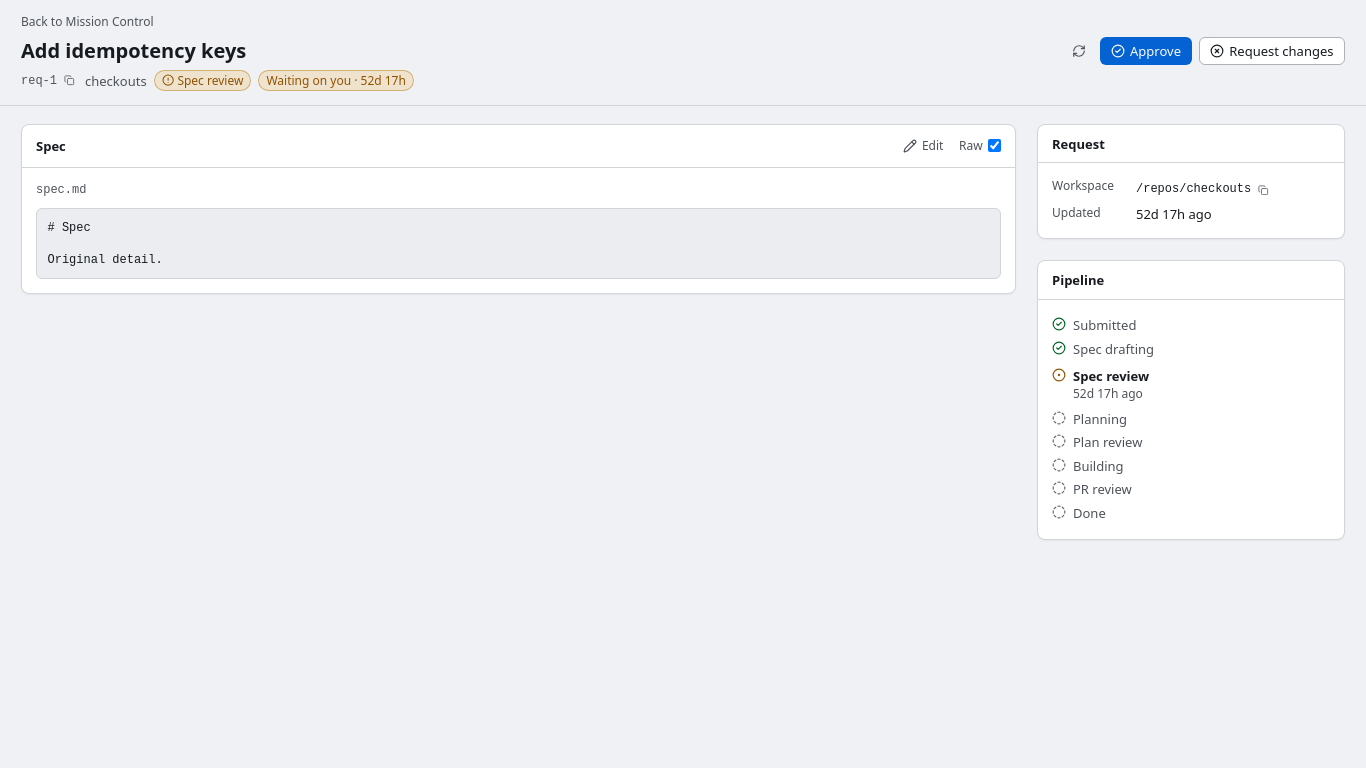
Test: a 422 from saving an edited spec renders the message inline and keeps the edit
Expected: the heading "Add idempotency keys" is shown, x1=21 y1=37 x2=246 y2=64
Expected: the button "Approve" is enabled, x1=1100 y1=37 x2=1192 y2=65
Click the button "Edit": coordinates (923, 146) x1=894 y1=134 x2=952 y2=158
(page scrolled)
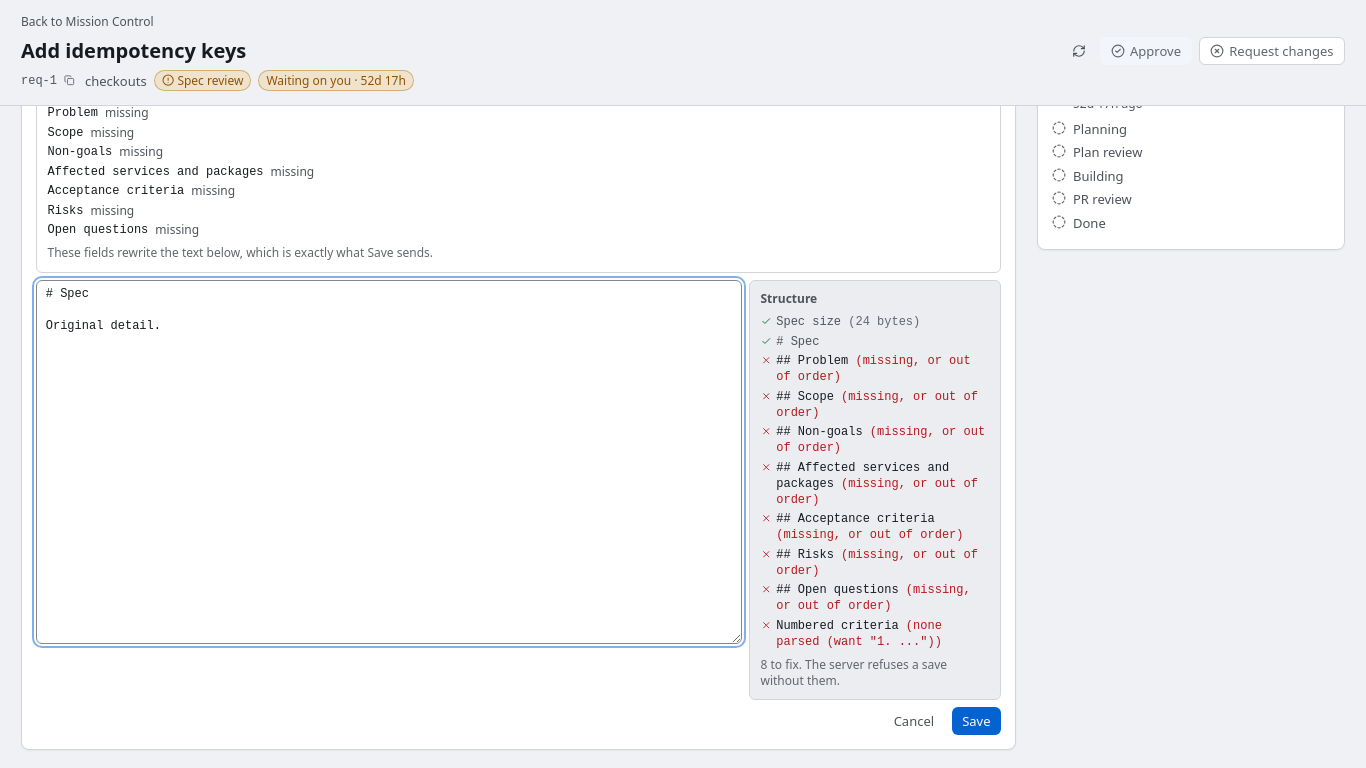
Clear the text box named "Edit spec.md": coordinates (389, 462) x1=36 y1=280 x2=742 y2=644
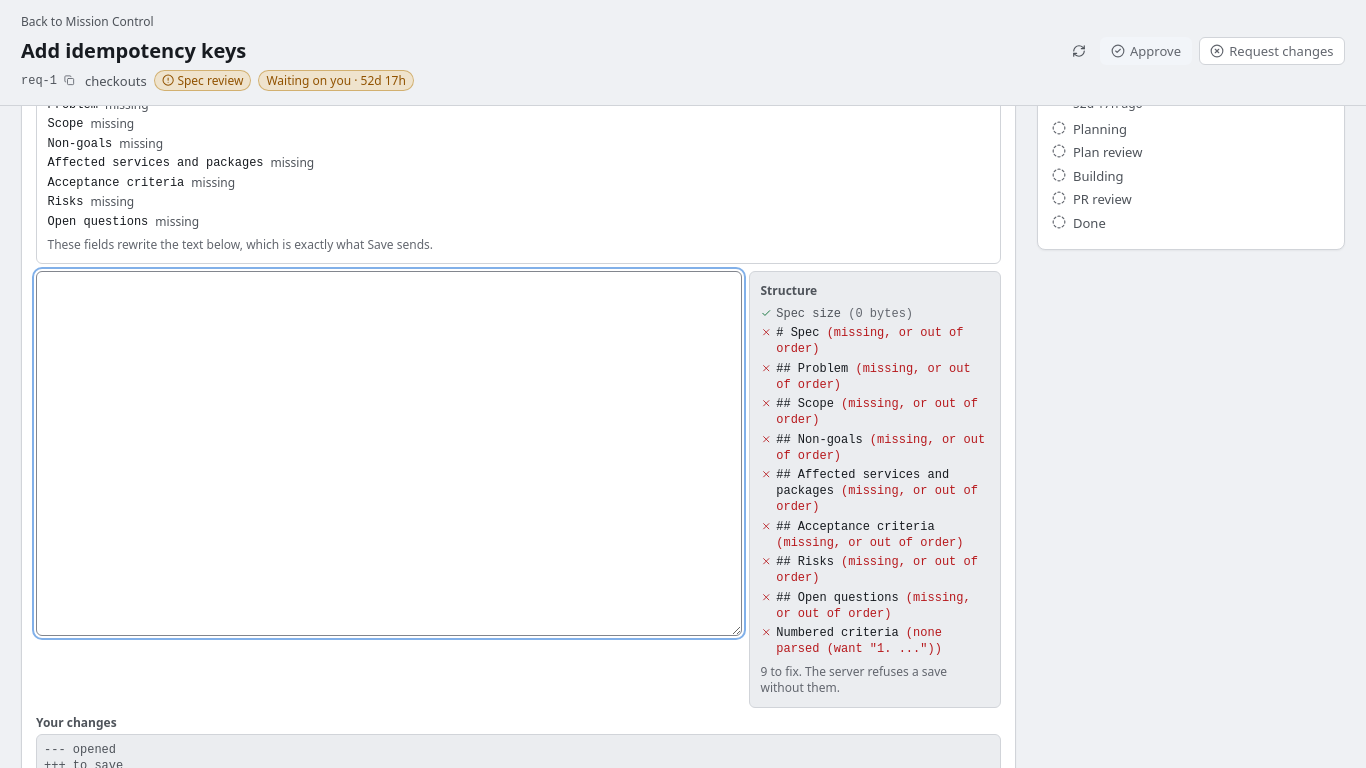
In the text box named "Edit spec.md": coordinates (389, 454) x1=36 y1=271 x2=742 y2=636, type "not a spec"
(page scrolled)
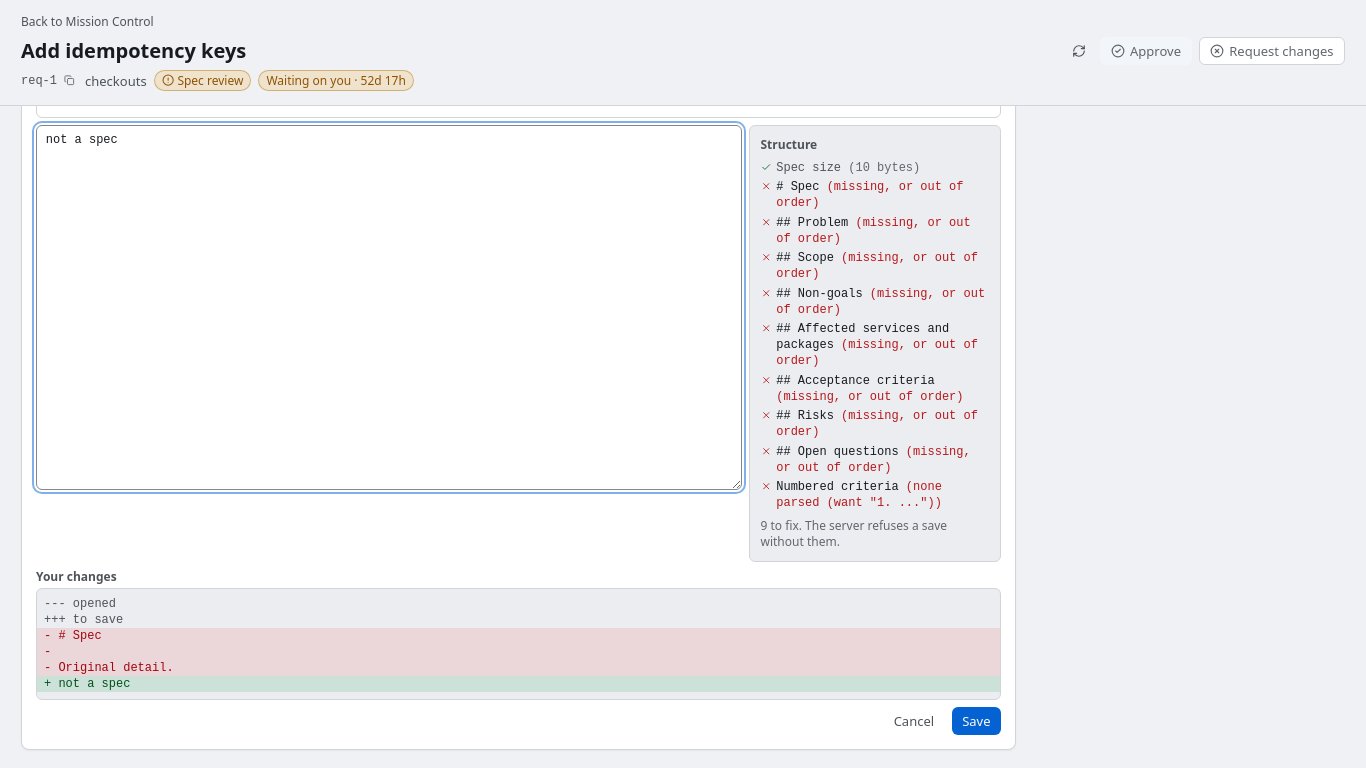
Click the button "Save": coordinates (976, 721) x1=952 y1=707 x2=1001 y2=735
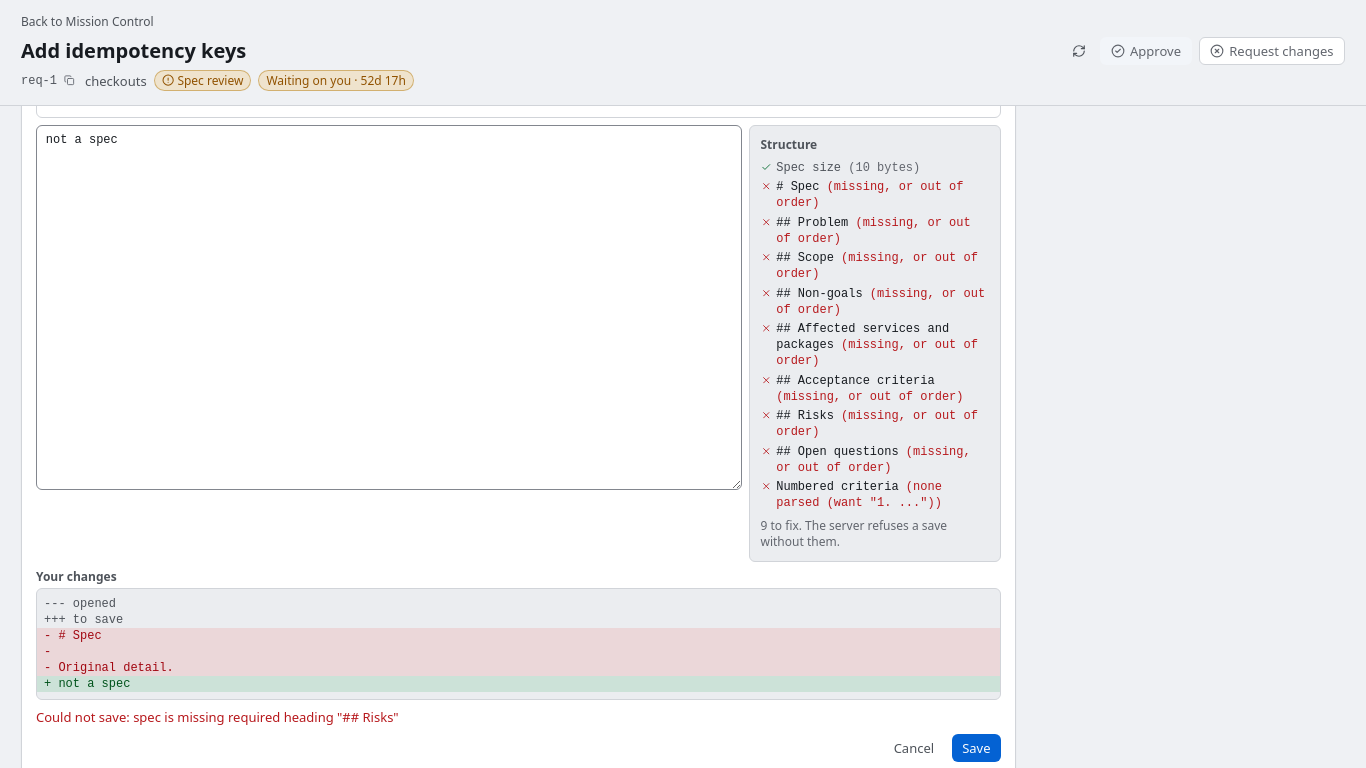
Expected: the text "Could not save: spec is missing required heading \"## Risks\"" is shown, x1=36 y1=708 x2=399 y2=726
